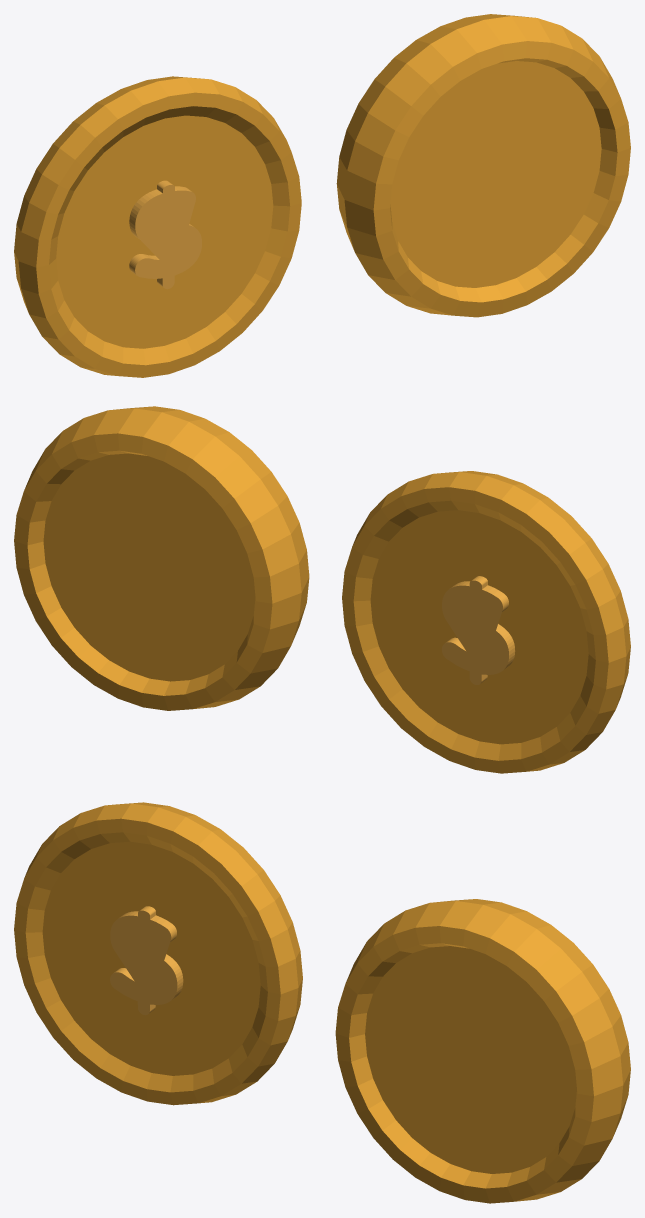
File: coin2.fbx
The picture shows the model from 3 angles, top to bottom: view 1: azimuth 30°, elevation 25°; view 2: azimuth 150°, elevation 25°; view 3: azimuth 330°, elevation 25°; orthographic projection.
Parts seen in each view (by area): view 1: coin, coin2; view 2: coin, coin2; view 3: coin, coin2.
Boxes of the visible parts, x1,y1,x2,y2 form: coin: [336, 14, 630, 317]; coin2: [14, 76, 301, 377]; coin: [14, 406, 309, 710]; coin2: [342, 471, 630, 773]; coin: [335, 899, 630, 1203]; coin2: [14, 802, 302, 1105].
Size of the model in its own units: 433 by 212 by 49.57.
